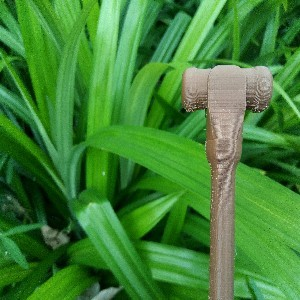palu: (181, 65, 273, 300)
